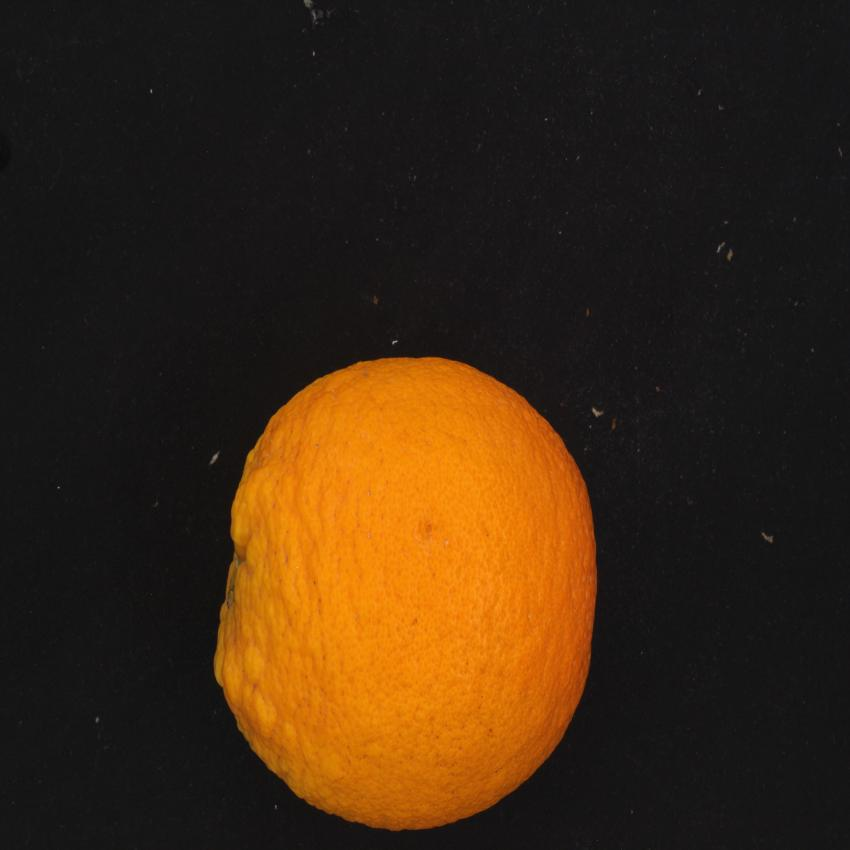Buen estado: (208, 336, 620, 842)
